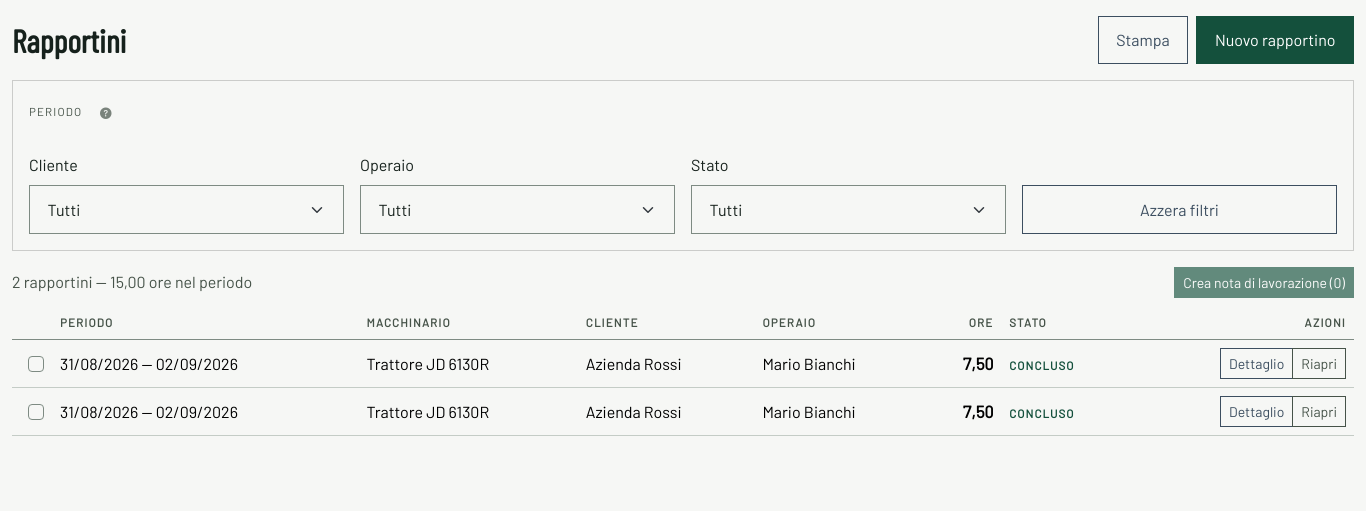
RapportiniPage — selezione per la nota di lavorazione › selezionando clienti diversi compare un avviso
Click the 1st checkbox. click: {"x": 36, "y": 364}
box: [28,356,44,372]
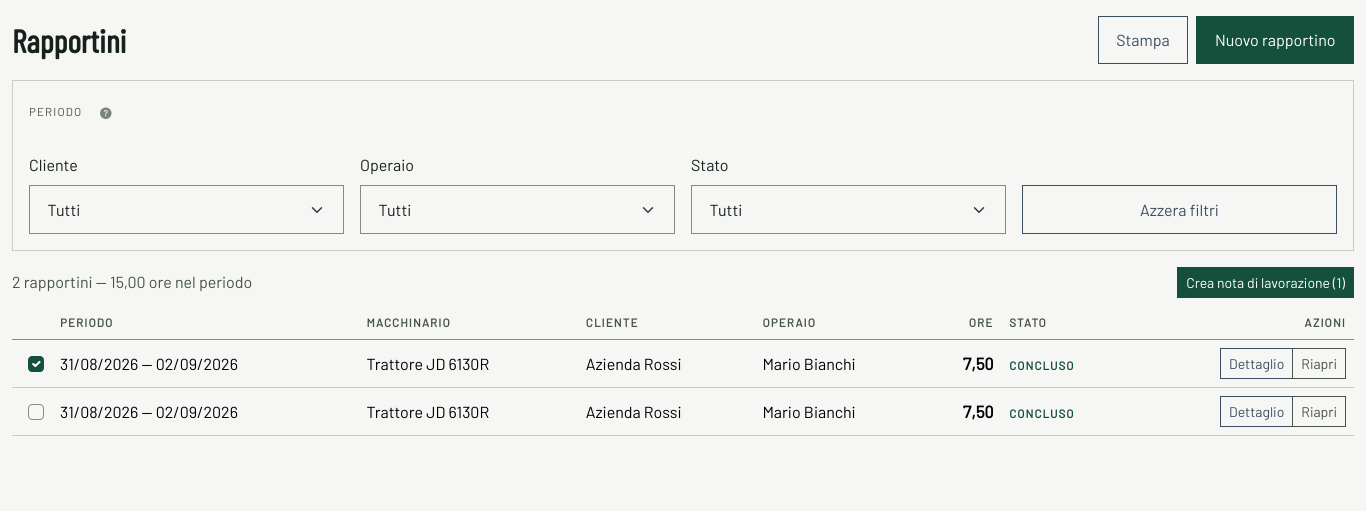
Click the 2nd checkbox. click: {"x": 36, "y": 412}
box: [28,404,44,420]
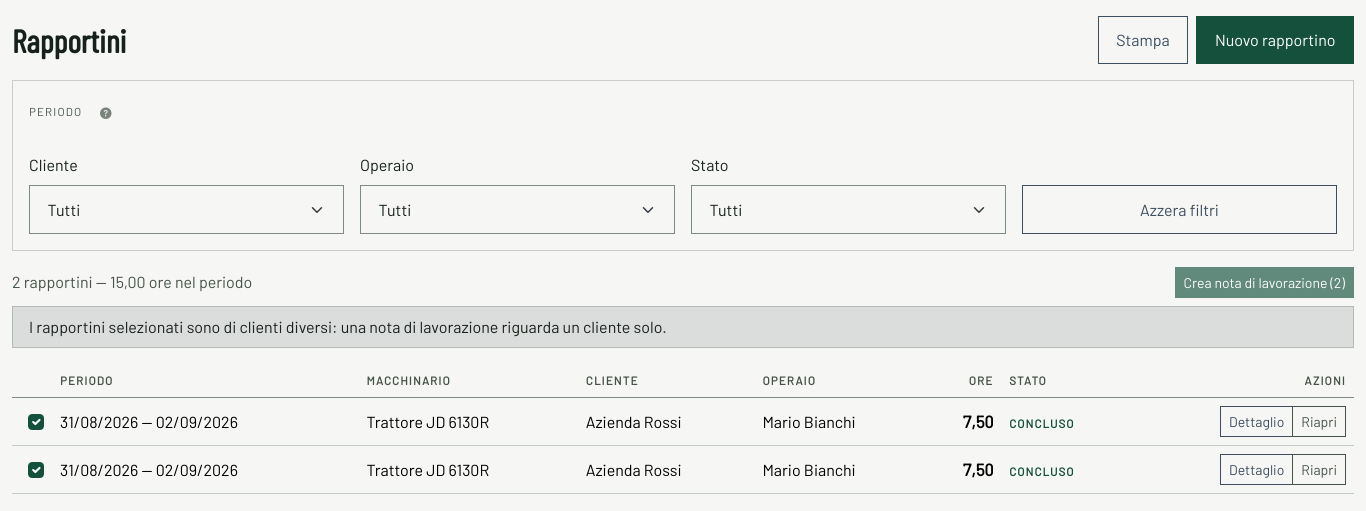
Expected: the text "clienti diversi" is shown, [29,317,667,336]
